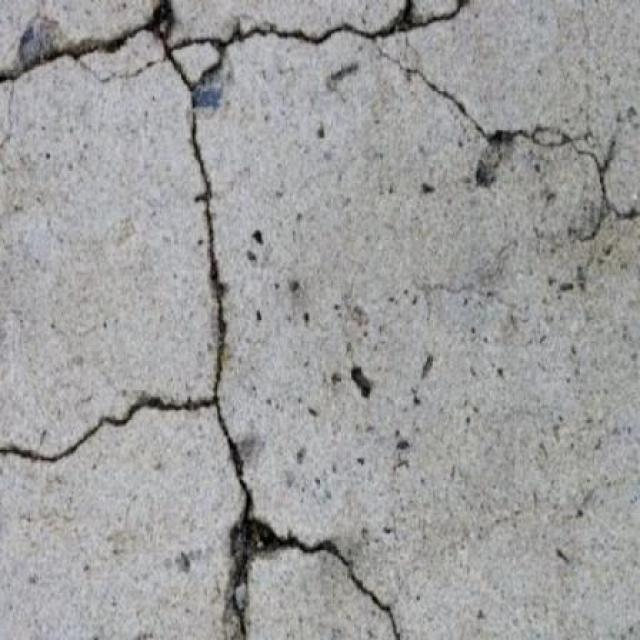Crack: (0, 0, 470, 639), (380, 49, 640, 219)
